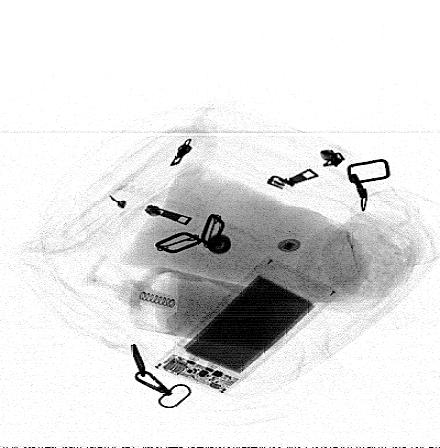Powerbank: (151, 256, 341, 397)
